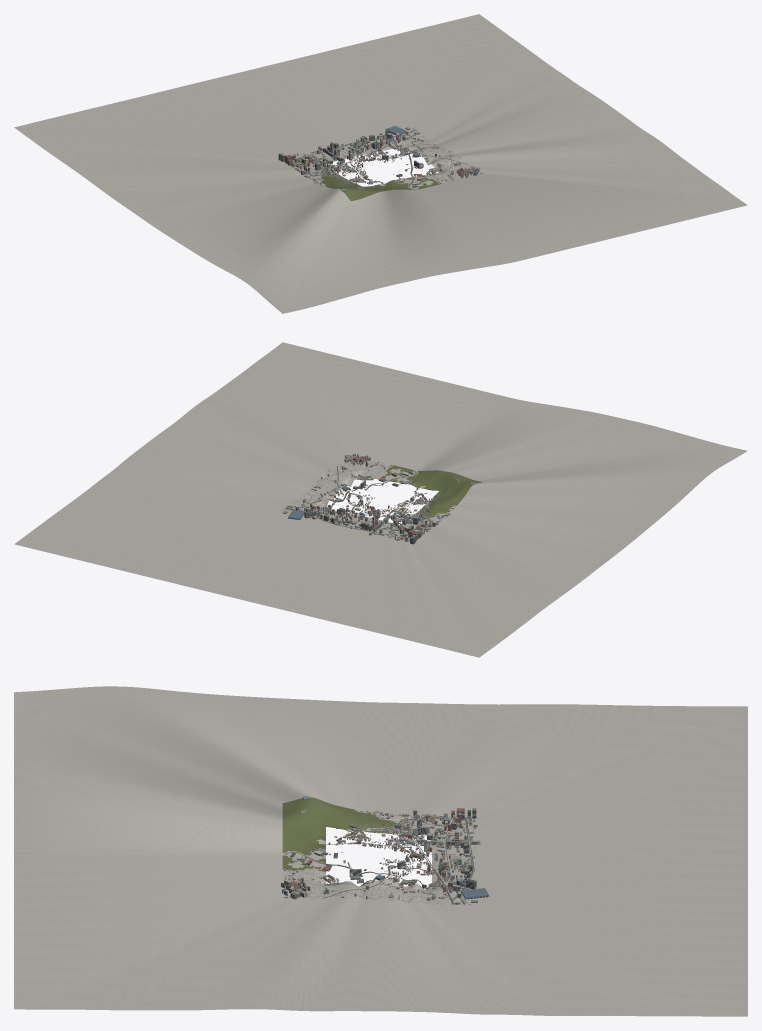
3 views of the same model, one above another, from view 1: azimuth 30°, elevation 25°; view 2: azimuth 150°, elevation 25°; view 3: azimuth 270°, elevation 25° (orthographic). The views are drawn at different scales.
Parts seen in each view (by area): view 1: ctx-ground, ctx-buildings, ctx-streets, ctx-roads; view 2: ctx-ground, ctx-buildings, ctx-streets, ctx-roads; view 3: ctx-ground, ctx-buildings, ctx-streets, ctx-roads, ctx-far.
Boxes of the visible parts, x1,y1,x2,y2 form: ctx-ground: (14,14,747,313); ctx-buildings: (278,126,479,191); ctx-streets: (297,135,479,187); ctx-roads: (284,128,467,189); ctx-ground: (14,342,747,657); ctx-buildings: (283,453,475,544); ctx-streets: (284,462,448,541); ctx-roads: (282,463,441,540); ctx-ground: (14,686,747,1016); ctx-buildings: (281,796,489,904); ctx-streets: (283,814,474,905); ctx-roads: (284,814,474,905); ctx-far: (283,810,475,900).
Size of the model in its own units: 7600 by 269 by 7600.
24 materials, 18 textured.
